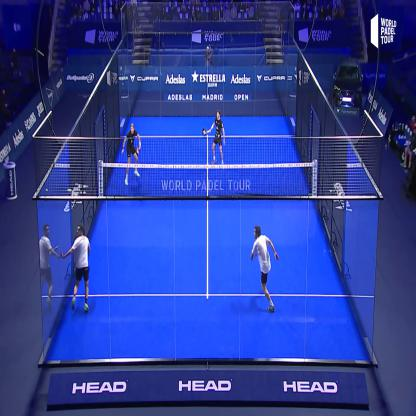ball: (68, 186, 76, 196)
